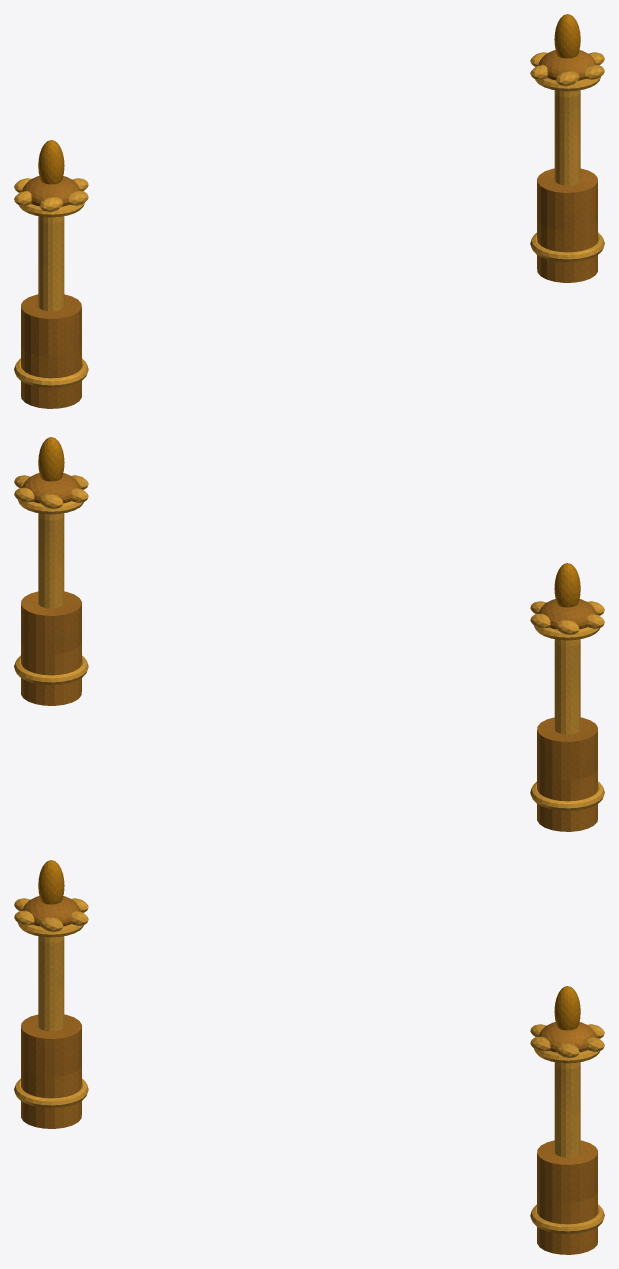
File: Royal_India_Deepam_Lamp_Set.glb
3 views of the same model, one above another, from view 1: azimuth 30°, elevation 25°; view 2: azimuth 150°, elevation 25°; view 3: azimuth 330°, elevation 25° (orthographic).
Visible parts, largest first — view 1: red_deepam_lamps_brass, red_deepam_lamps_gold, red_deepam_lamps_yellow_enamel; view 2: red_deepam_lamps_brass, red_deepam_lamps_gold, red_deepam_lamps_yellow_enamel; view 3: red_deepam_lamps_brass, red_deepam_lamps_gold, red_deepam_lamps_yellow_enamel.
Part boxes in pixels (x1,y1,x2,y2): red_deepam_lamps_brass: (21,50,597,408); red_deepam_lamps_gold: (14,52,604,387); red_deepam_lamps_yellow_enamel: (38,14,580,184); red_deepam_lamps_brass: (21,473,597,831); red_deepam_lamps_gold: (14,475,604,810); red_deepam_lamps_yellow_enamel: (38,437,580,607); red_deepam_lamps_brass: (21,896,597,1254); red_deepam_lamps_gold: (14,898,604,1233); red_deepam_lamps_yellow_enamel: (38,860,580,1030).
Size of the model in its own units: 2.33 by 0.965 by 0.256.
Materials: 3 (3 with a texture image).
